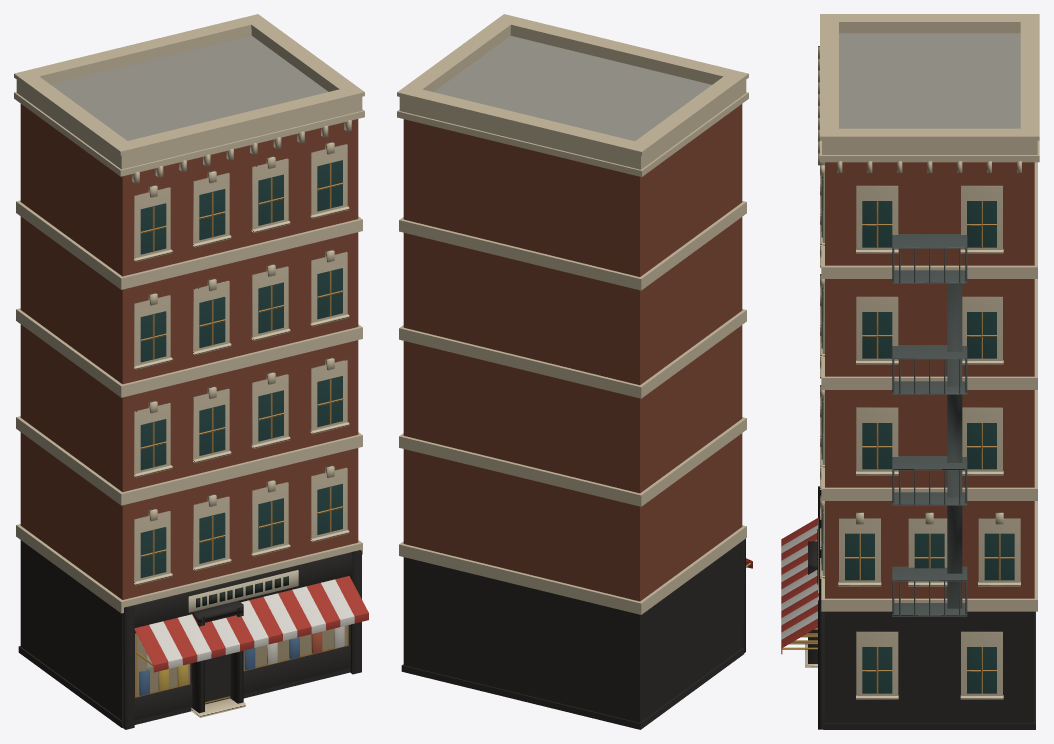
File: city_brick_5.glb
3 views of the same model, side by side, from view 1: azimuth 30°, elevation 25°; view 2: azimuth 150°, elevation 25°; view 3: azimuth 270°, elevation 25° (orthographic). The views are drawn at different scales.
Parts seen in each view (by area): view 1: city_brick_5; view 2: city_brick_5; view 3: city_brick_5.
Part boxes in pixels (box(x1,y1,x2,y2)): city_brick_5: box(14, 14, 368, 729); city_brick_5: box(397, 14, 752, 729); city_brick_5: box(781, 14, 1039, 729).
Bounding box in the file's own units: 6.31 × 13.14 × 5.17.
